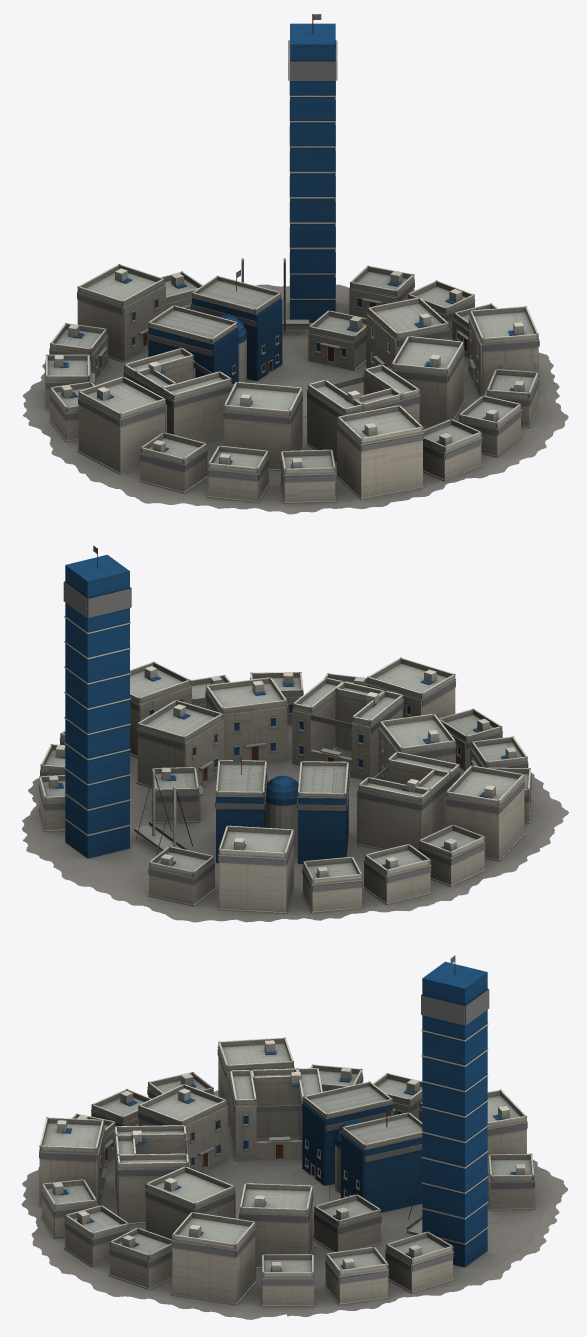
The model's file is modern-town-big-a-indic-454d7f13.glb.
3 renders of one model, top to bottom at view 1: azimuth 30°, elevation 25°; view 2: azimuth 150°, elevation 25°; view 3: azimuth 270°, elevation 25°, orthographic.
Visible parts, largest first — view 1: LOD0; view 2: LOD0; view 3: LOD0.
Boxes of the visible parts, x1,y1,x2,y2 form: LOD0: (22,14,568,514); LOD0: (22,545,568,922); LOD0: (21,955,567,1319).
Size of what is drawn, in the model's own units: 7.96 by 4.73 by 7.97.
3 materials, 3 textured.
